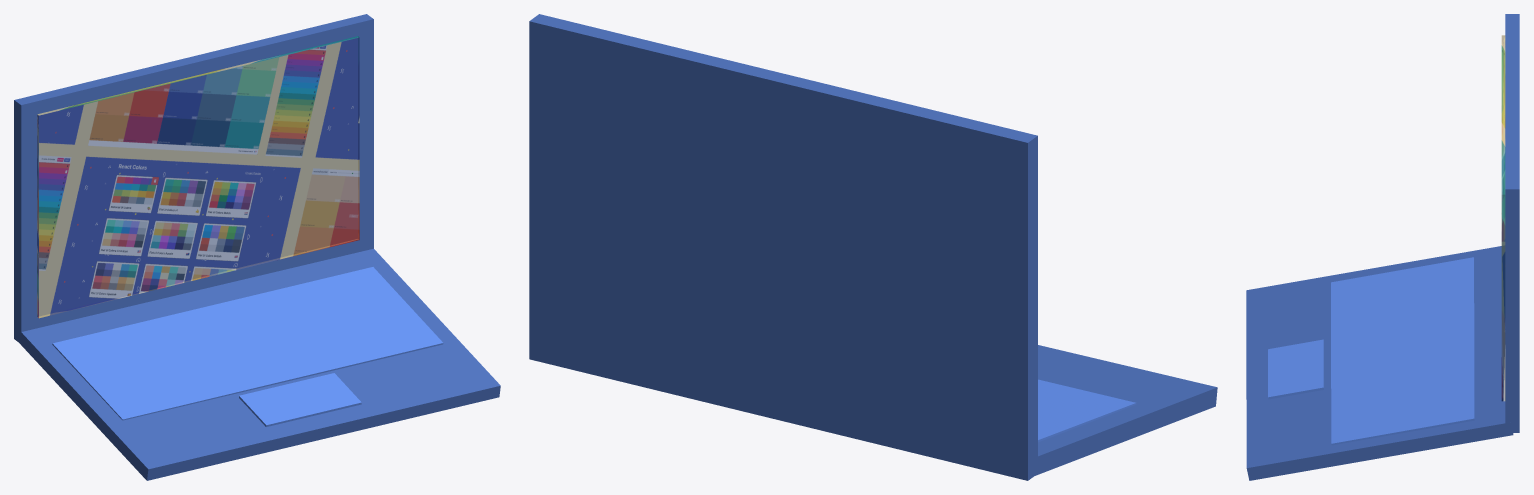
The model's file is laptop3.glb.
3 views of the same model, side by side, from view 1: azimuth 30°, elevation 25°; view 2: azimuth 150°, elevation 25°; view 3: azimuth 270°, elevation 25° (orthographic). The views are drawn at different scales.
Parts seen in each view (by area): view 1: Cube, Cube.002, Cube.001, Cube.003, Cube.004; view 2: Cube, Cube.001, Cube.003; view 3: Cube.003, Cube.001, Cube, Cube.004, Cube.002.
Boxes of the visible parts, x1=… form: Cube: x1=14, y1=14, x2=373, y2=341; Cube.002: x1=37, y1=36, x2=359, y2=318; Cube.001: x1=17, y1=248, x2=500, y2=480; Cube.003: x1=52, y1=267, x2=443, y2=420; Cube.004: x1=239, y1=373, x2=361, y2=426; Cube: x1=529, y1=14, x2=1037, y2=480; Cube.001: x1=1032, y1=345, x2=1217, y2=476; Cube.003: x1=1038, y1=379, x2=1136, y2=442; Cube.003: x1=1331, y1=257, x2=1474, y2=445; Cube.001: x1=1246, y1=246, x2=1513, y2=480; Cube: x1=1505, y1=14, x2=1519, y2=432; Cube.004: x1=1268, y1=339, x2=1324, y2=399; Cube.002: x1=1501, y1=35, x2=1505, y2=401.
Bounding box in the file's own units: 1.73 × 1.34 × 1.14.
Materials: 3 (1 with a texture image).
